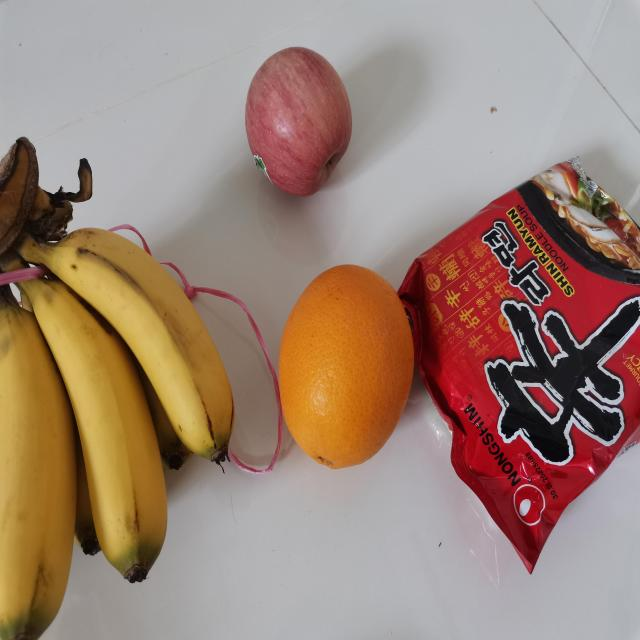Apple: (244, 44, 354, 196)
Banana: (0, 133, 239, 639)
Orange: (276, 262, 419, 471)
